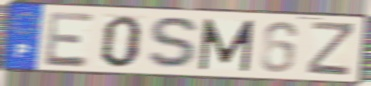0: (99, 14, 145, 70)
6: (258, 20, 299, 75)
E: (43, 10, 97, 69)
M: (197, 17, 256, 73)
S: (145, 14, 204, 72)
Z: (305, 20, 358, 78)
